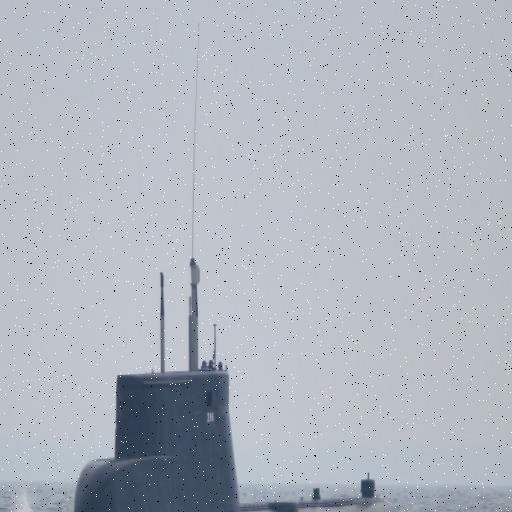submarine: (73, 257, 402, 512)
